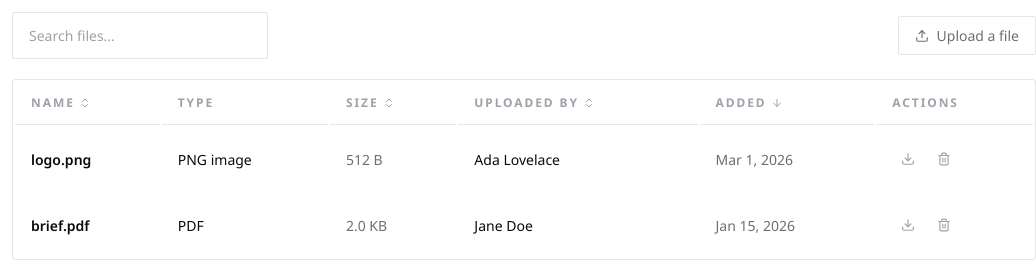
Scenario: ProjectFilesTable › filters by search across name, type, and uploader
Type "logo" into the search field labelled "Search files".
click(140, 36); type("logo")  # box [12,12,268,59]
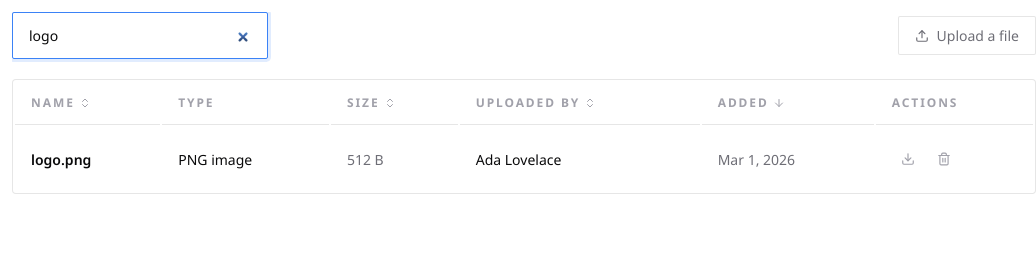
Check: the text "logo.png" is shown, box [31,150,91,168]
Check: the text "brief.pdf" is gone
